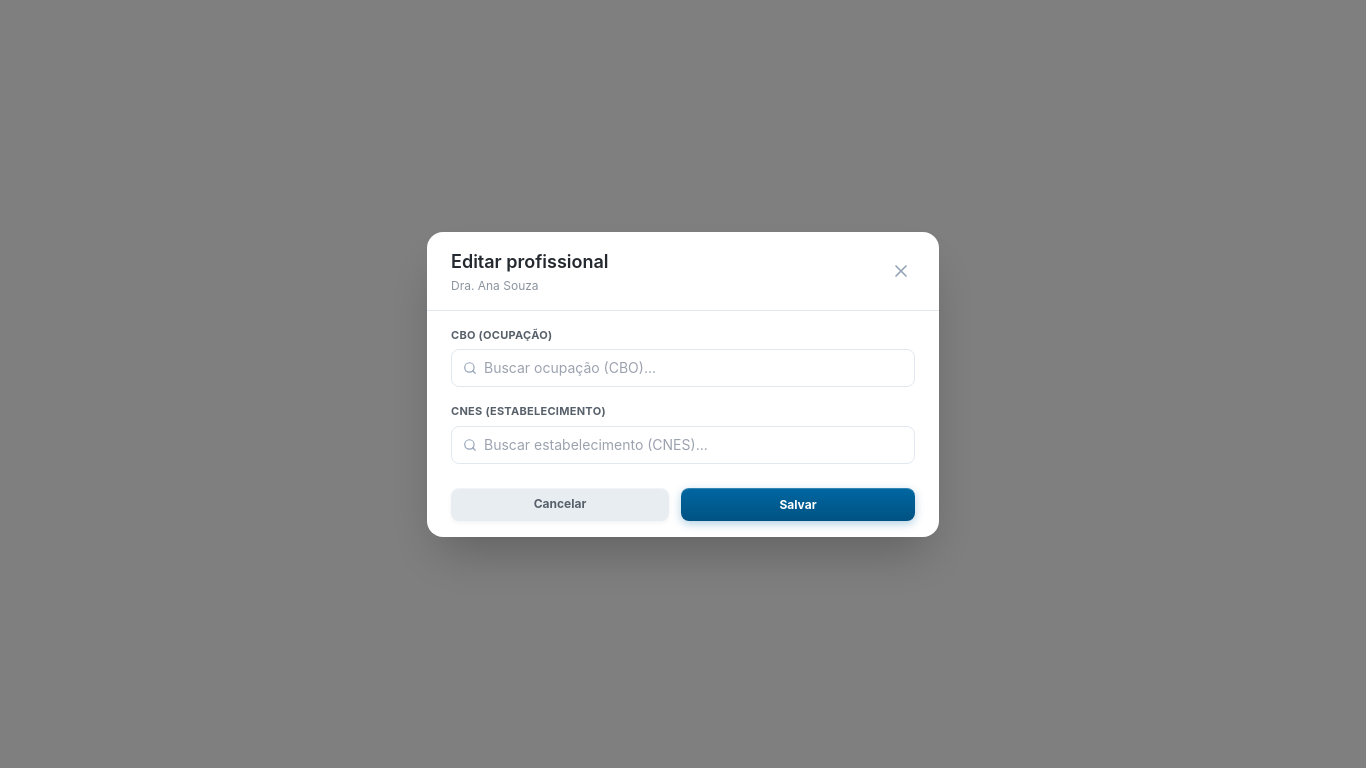
Test case: ProfessionalEditModal › search populates CNES options from the terminology endpoint
Type "central" into the dropdown labelled "CNES" at (683, 444), box [451, 426, 915, 464]
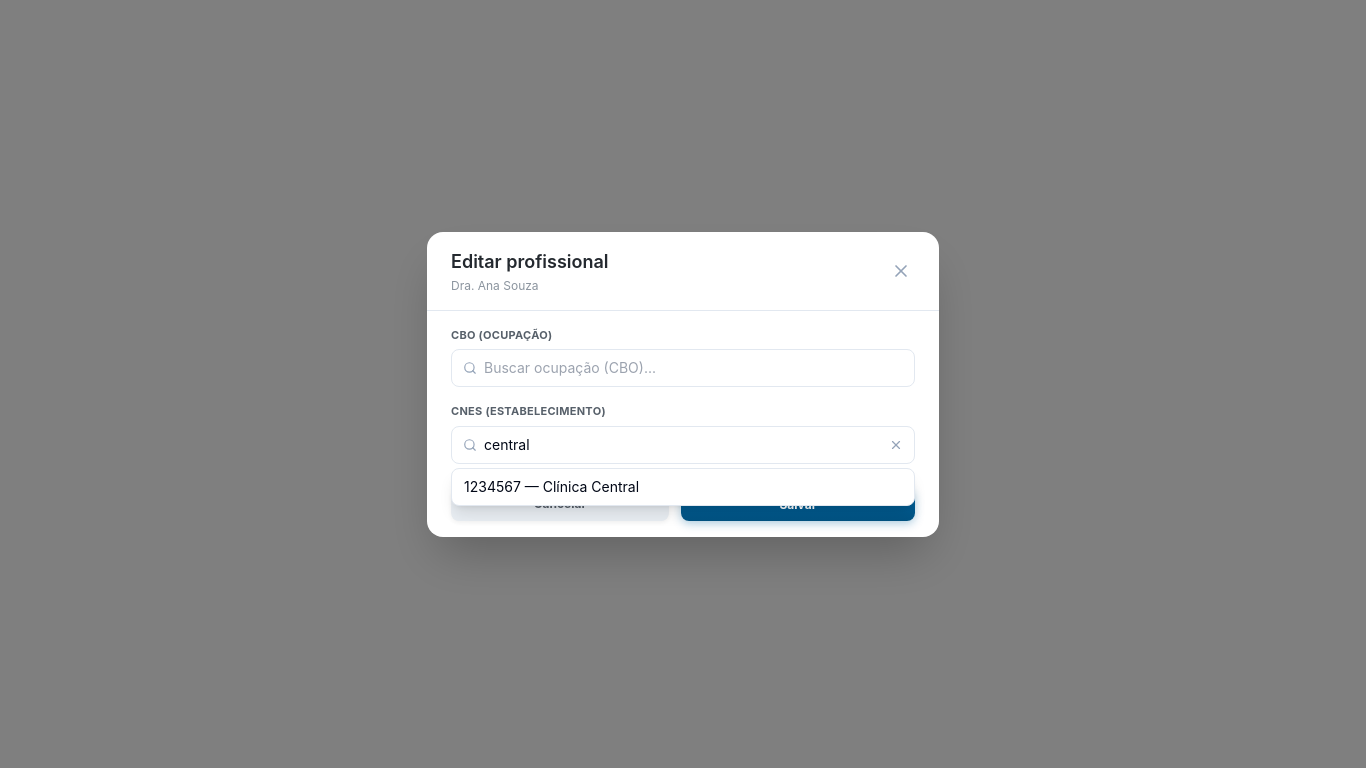
Result: the option "1234567 — Clínica Central" is shown at [452, 468, 914, 504]
